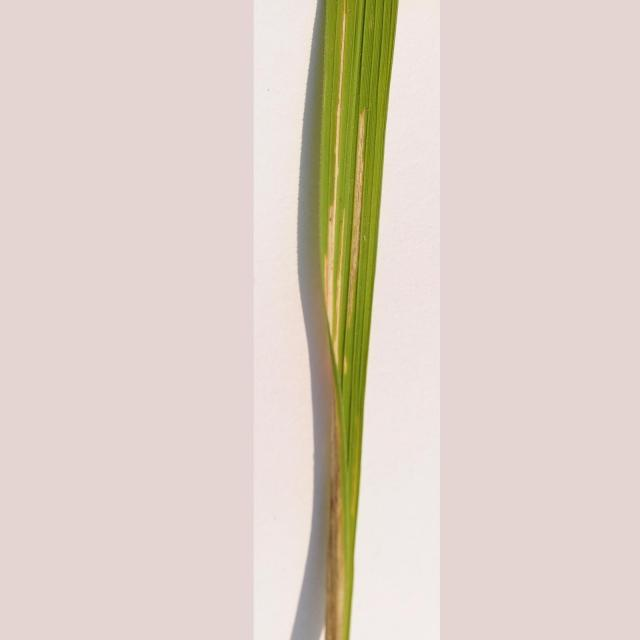leaf blight: (302, 7, 374, 640)
